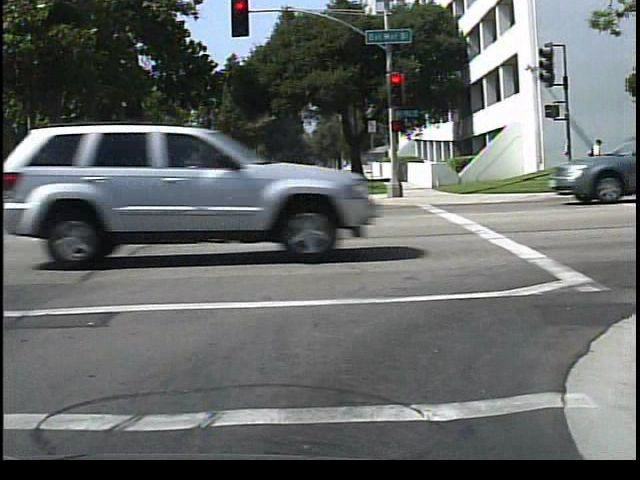person: (585, 129, 610, 186)
